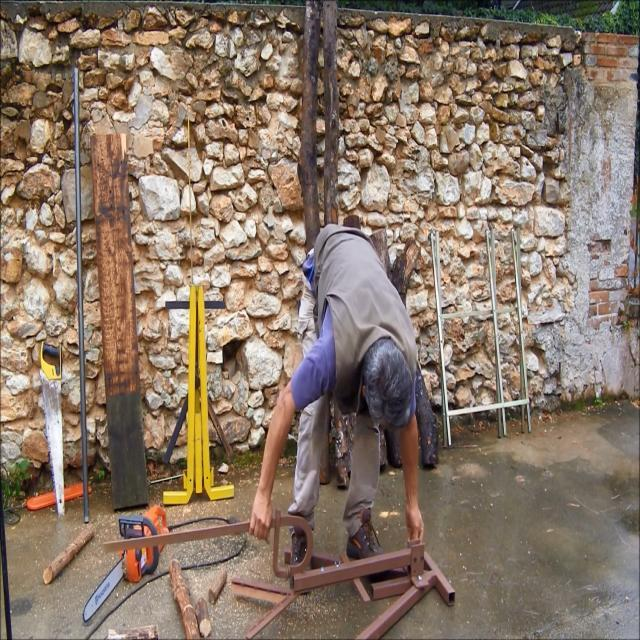Chainsaw: (76, 498, 188, 640)
